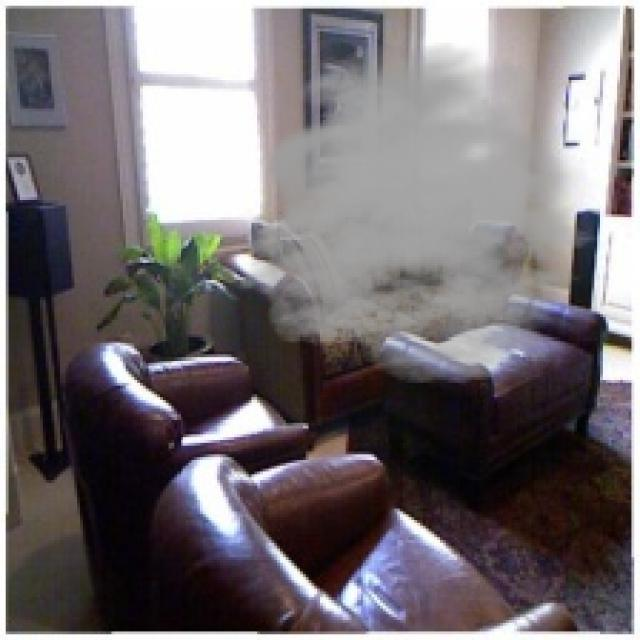Smoke: (234, 43, 617, 386)
